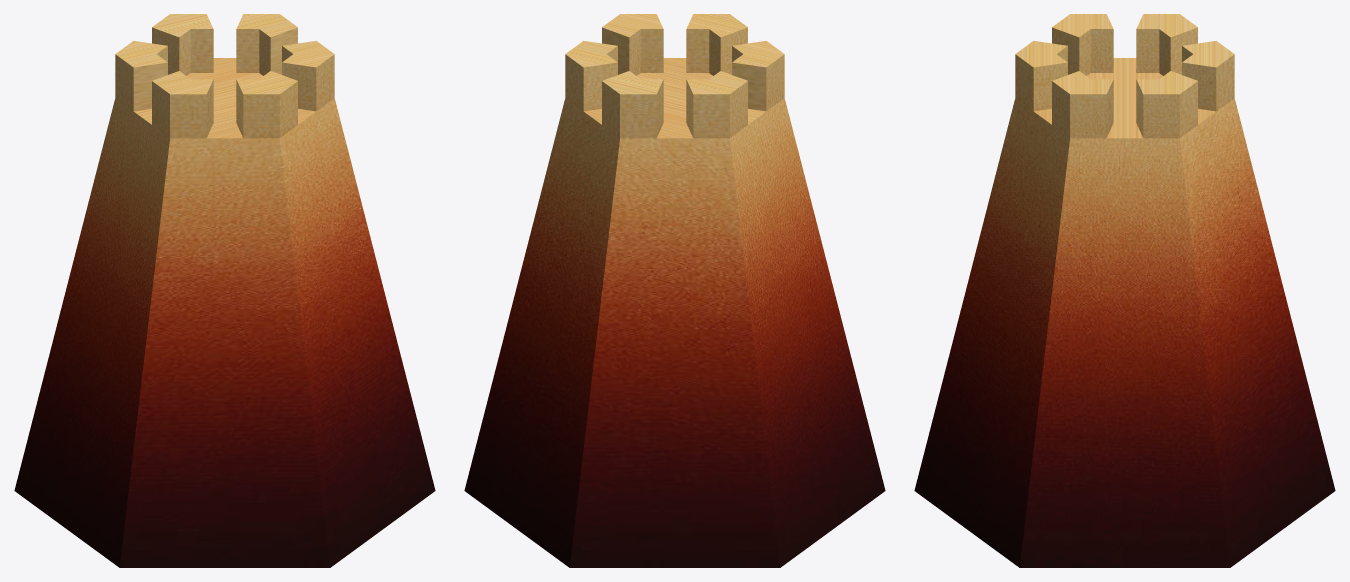
File: tower.fbx
The picture shows the model from 3 angles, left to right: view 1: azimuth 30°, elevation 25°; view 2: azimuth 150°, elevation 25°; view 3: azimuth 270°, elevation 25°; orthographic projection.
Parts seen in each view (by area): view 1: Cylinder; view 2: Cylinder; view 3: Cylinder.
Boxes of the visible parts, bbox=[...] form: Cylinder: bbox=[14, 14, 435, 567]; Cylinder: bbox=[464, 14, 885, 567]; Cylinder: bbox=[914, 14, 1335, 567].
Size of the model in its own units: 503 by 665 by 581.
